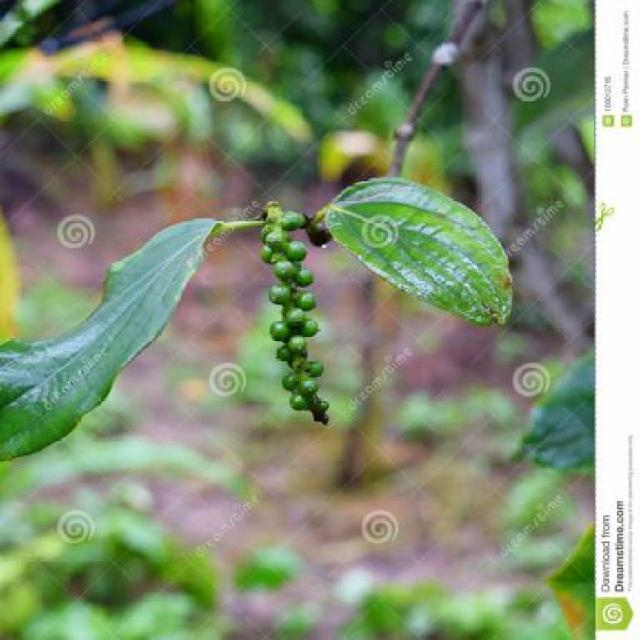UNRIPE: (259, 208, 330, 423)
